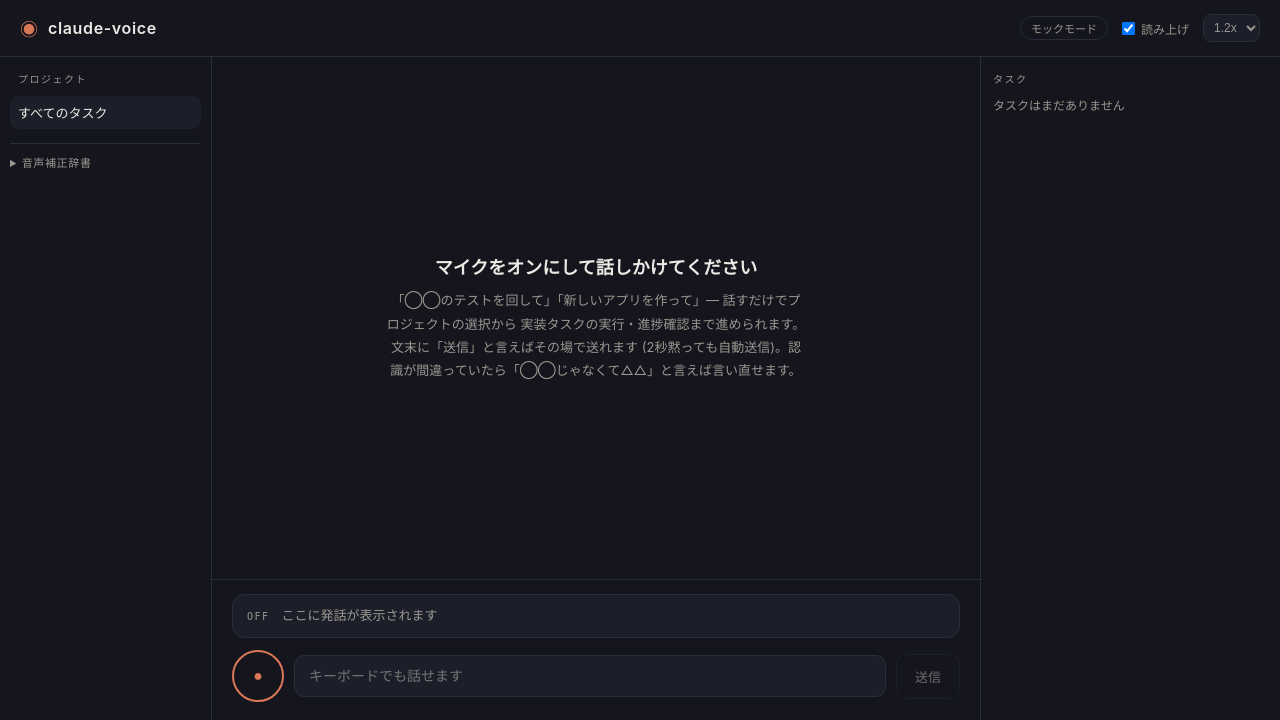
it: 編集可能な認識テキスト › 未確定(interim)のテキストは入力欄の値には混ざらず、別枠で表示される
Click the button named "マイクを開始" at coordinates (258, 676), box top-left (232, 650), bottom-right (284, 702)
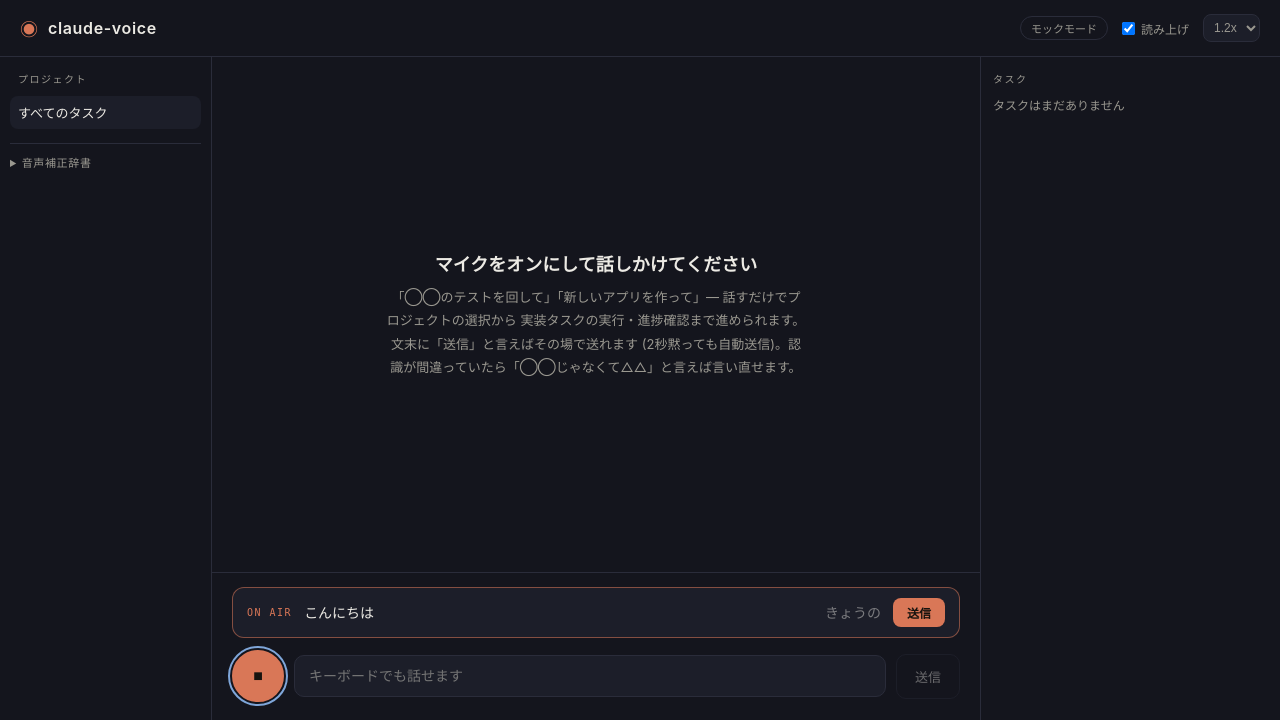
expect the text box named "認識テキスト(編集できます)" holds "こんにちは": met, box top-left (304, 602), bottom-right (821, 623)
expect the text "きょうの" is shown: met, box top-left (825, 602), bottom-right (881, 623)
